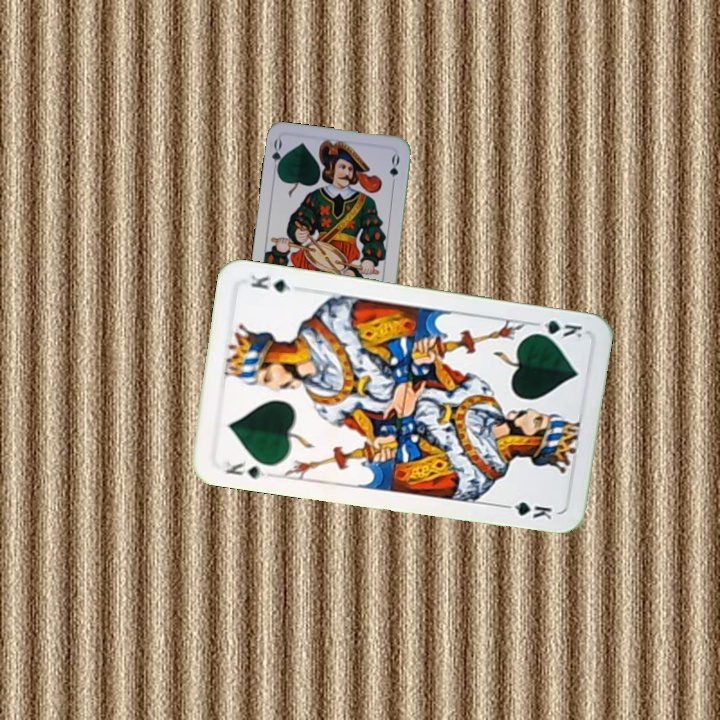GK: (527, 316, 585, 341), (222, 457, 273, 484)
GO: (268, 136, 287, 177)
